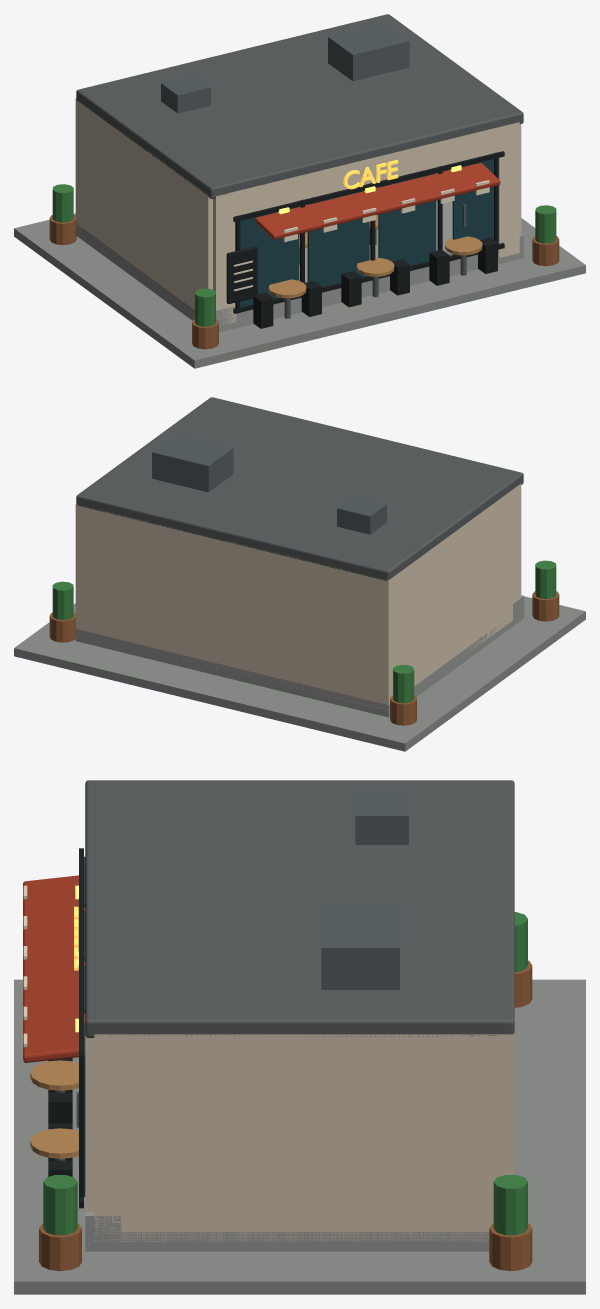
Rendered from CafeStage 9.glb.
The picture shows the model from 3 angles, top to bottom: view 1: azimuth 30°, elevation 25°; view 2: azimuth 150°, elevation 25°; view 3: azimuth 270°, elevation 25°; orthographic projection. The views are drawn at different scales.
Visible parts, largest first — view 1: FlatRoof.005, CafeWalls.005, TileBase_10x8.008, StorefrontGlass.004, FrontAwning.002, RooftopEquipment, CafeFoundation.007, StorefrontFrames.004, MenuBoard.002, PatioChairs_0.001, PatioChairs_1.001, PatioChairs_2 (+11 smaller); view 2: CafeWalls.005, FlatRoof.005, TileBase_10x8.008, CafeFoundation.007, RooftopEquipment, Plant_3.001, Plant_0.001, Plant_2.001, Planter_0.001, Planter_3.001, Planter_2.001; view 3: FlatRoof.005, CafeWalls.005, TileBase_10x8.008, RooftopEquipment, FrontAwning.002, CafeFoundation.007, Plant_1.001, Plant_3.001, StorefrontFrames.004, Planter_3.001, Planter_1.001, PatioTable_2 (+4 smaller).
Boxes of the visible parts, box(x1,y1,x2,y2) form: FlatRoof.005: box(76, 14, 523, 198); CafeWalls.005: box(75, 98, 521, 325); TileBase_10x8.008: box(14, 213, 585, 368); StorefrontGlass.004: box(240, 159, 493, 307); FrontAwning.002: box(255, 163, 500, 239); RooftopEquipment: box(161, 23, 409, 113); CafeFoundation.007: box(76, 200, 524, 332); StorefrontFrames.004: box(233, 151, 504, 313); MenuBoard.002: box(226, 246, 257, 303); PatioChairs_0.001: box(253, 280, 321, 328); PatioChairs_1.001: box(341, 259, 409, 307); PatioChairs_2: box(429, 237, 497, 285); CafeWalls.005: box(75, 483, 521, 710); FlatRoof.005: box(76, 397, 523, 580); TileBase_10x8.008: box(14, 596, 585, 751); CafeFoundation.007: box(75, 595, 524, 717); RooftopEquipment: box(152, 434, 386, 534); Plant_3.001: box(52, 581, 73, 620); Plant_0.001: box(535, 560, 556, 598); Plant_2.001: box(393, 664, 414, 703); Planter_0.001: box(532, 591, 559, 621); Planter_3.001: box(49, 612, 75, 642); Planter_2.001: box(390, 695, 416, 725); FlatRoof.005: box(85, 780, 514, 1037); CafeWalls.005: box(85, 1033, 514, 1241); TileBase_10x8.008: box(14, 979, 585, 1294); RooftopEquipment: box(321, 790, 408, 989); FrontAwning.002: box(23, 875, 85, 1062); CafeFoundation.007: box(85, 1212, 489, 1251); Plant_1.001: box(43, 1175, 77, 1235); Plant_3.001: box(493, 1175, 527, 1235); StorefrontFrames.004: box(79, 848, 83, 1208); Planter_3.001: box(489, 1223, 532, 1270); Planter_1.001: box(39, 1223, 81, 1271); PatioTable_2: box(30, 1128, 78, 1158).
Size of the model in its own units: 10 by 4.41 by 8.
